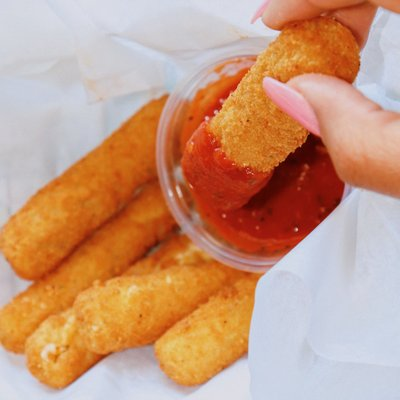pizza: (155, 42, 347, 275)
